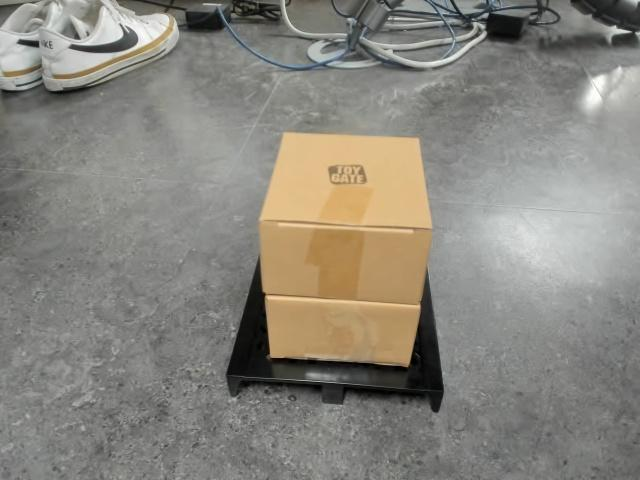box: (229, 130, 445, 413)
